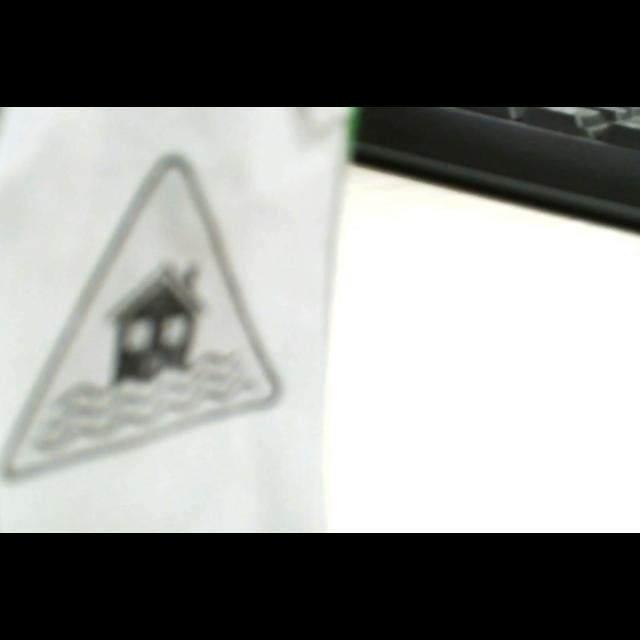Tsunami: (4, 155, 278, 478)
